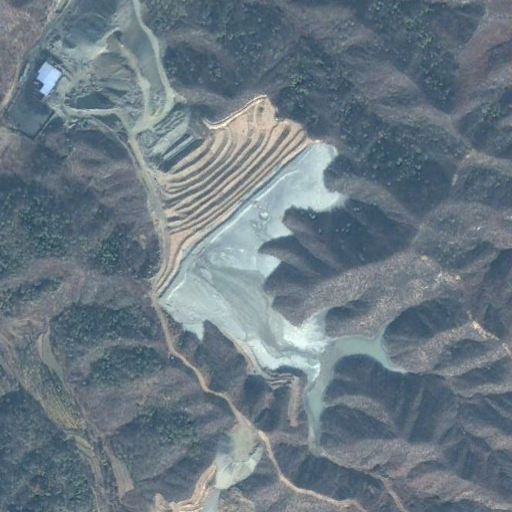tp: (153, 94, 411, 451)
